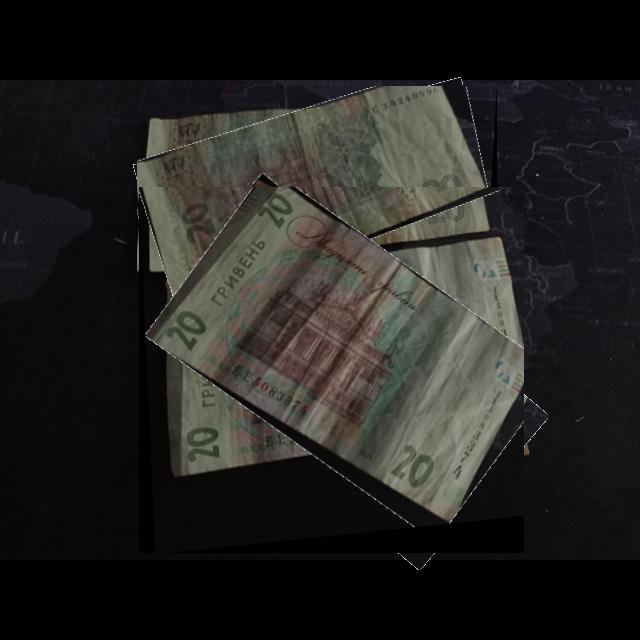20uah: (145, 187, 525, 530), (137, 86, 492, 312)
